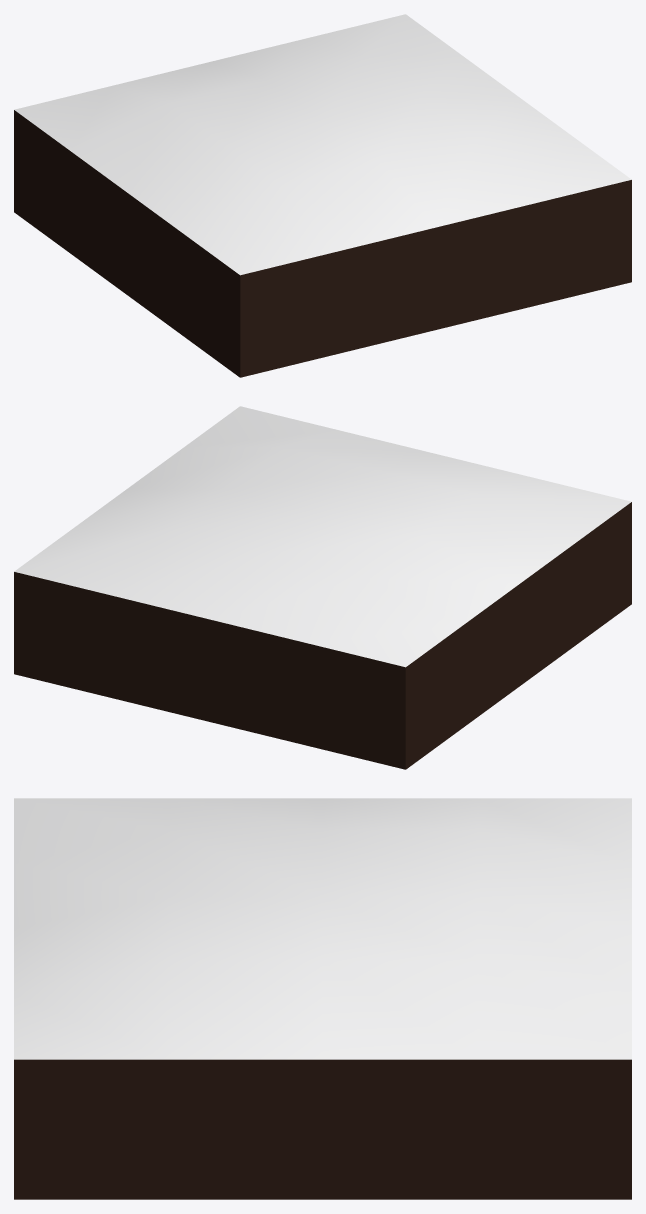
Rendered from uniformedTile-15_col.fbx.
The picture shows the model from 3 angles, top to bottom: view 1: azimuth 30°, elevation 25°; view 2: azimuth 150°, elevation 25°; view 3: azimuth 270°, elevation 25°; orthographic projection. The views are drawn at different scales.
Parts seen in each view (by area): view 1: uniformedTile-15.col; view 2: uniformedTile-15.col; view 3: uniformedTile-15.col.
Boxes of the visible parts, x1=… form: uniformedTile-15.col: x1=14, y1=14, x2=631, y2=377; uniformedTile-15.col: x1=14, y1=406, x2=631, y2=769; uniformedTile-15.col: x1=14, y1=798, x2=631, y2=1199.
Size of the model in its own units: 2 by 0.6163 by 2.
Materials: 1 (1 with a texture image).
